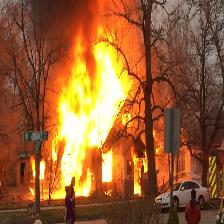fire: (59, 47, 125, 189)
smoke: (40, 2, 139, 46)
